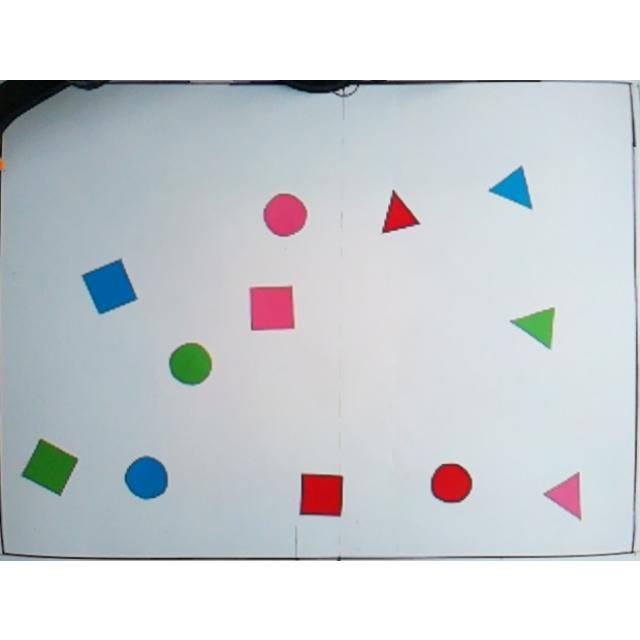blueCircle: (122, 454, 170, 498)
blueSquare: (80, 256, 140, 314)
blueTriangle: (488, 163, 534, 210)
greenCircle: (166, 338, 214, 384)
greenSquare: (20, 436, 76, 496)
greenTriangle: (508, 302, 558, 351)
pinkCircle: (262, 189, 308, 237)
pinkSquare: (247, 280, 295, 330)
pinkTriangle: (544, 467, 584, 521)
redCircle: (428, 458, 474, 504)
redSquare: (296, 468, 346, 518)
redTriangle: (378, 188, 422, 238)
